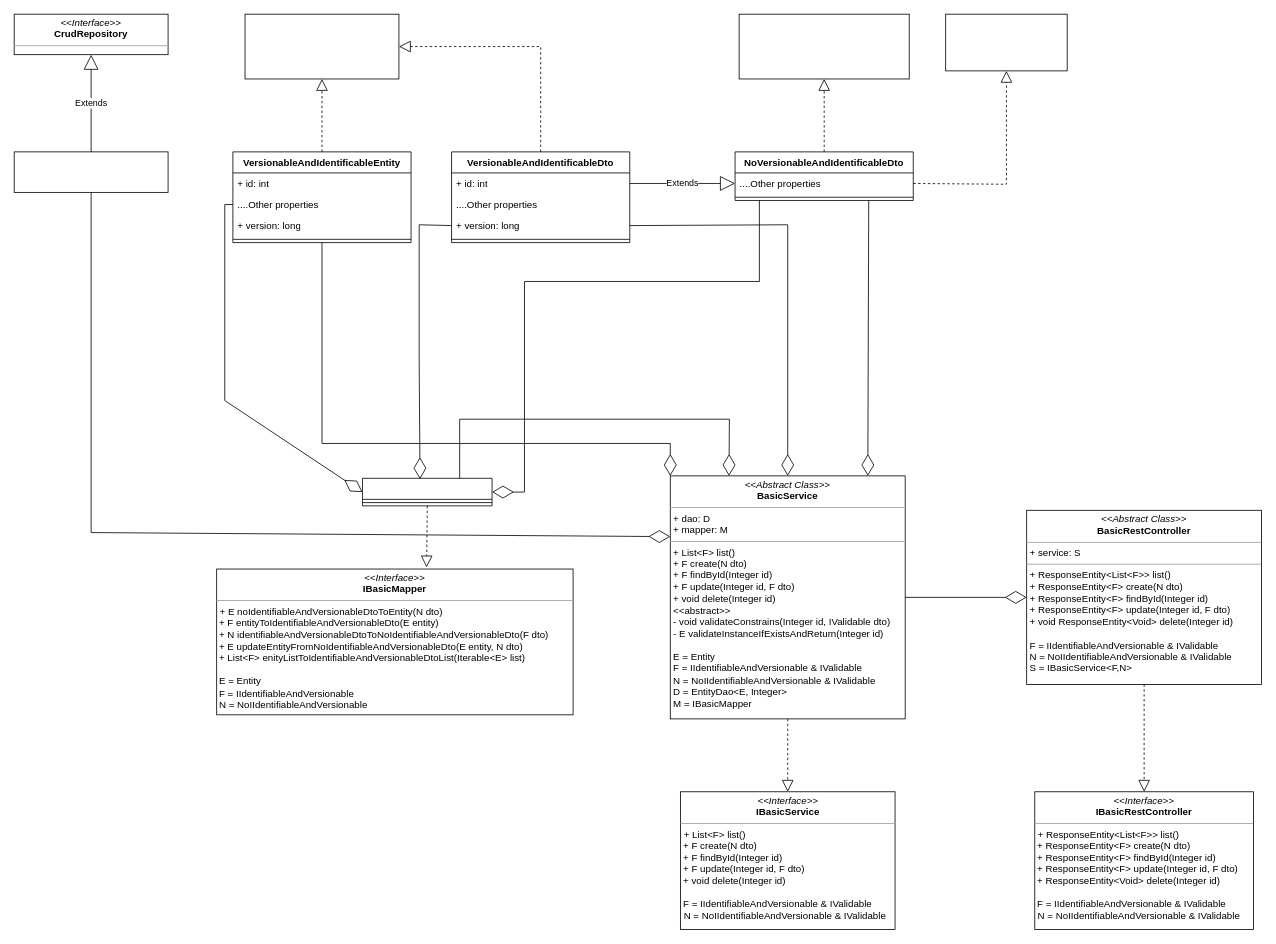
Some shapes in this 1276 by 944 pixel diagram are drawn without their labels. Each missing label, with the centre of its shape:
"<<Interface>> EntityDao" goes at point (90, 171).
"<<Interface>> IIdentificableAndVersionable + int getId() + long getVersion()" goes at point (321, 46).
"<<Interface>> INoIdentificableAndVersionable" goes at point (823, 46).
"<<Interface>> IValidable + void validate()" goes at point (1006, 42).
"EntityMapper" goes at point (427, 491).
